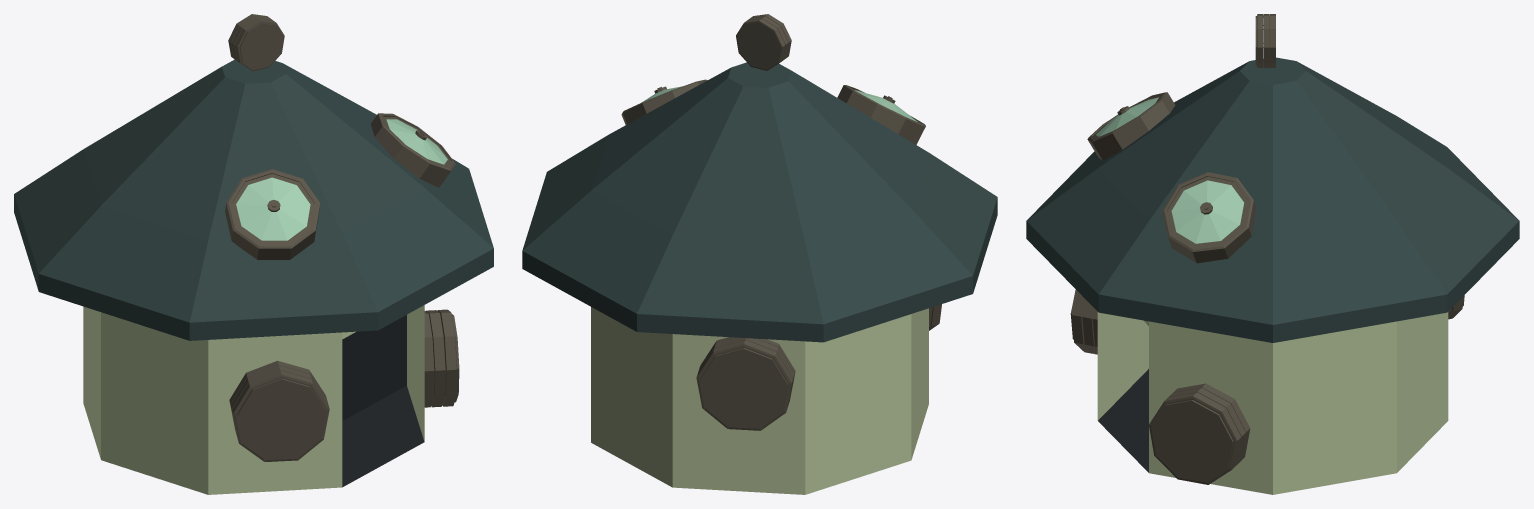
The model's file is assembly_building.glb.
3 views of the same model, side by side, from view 1: azimuth 30°, elevation 25°; view 2: azimuth 150°, elevation 25°; view 3: azimuth 270°, elevation 25° (orthographic).
Visible parts, largest first — view 1: Cylinder; view 2: Cylinder; view 3: Cylinder.
Part boxes in pixels (x1,y1,x2,y2): Cylinder: (14,14,493,494); Cylinder: (522,14,997,494); Cylinder: (1026,14,1519,494).
Size of the model in its own units: 5.62 by 5.09 by 5.62.
